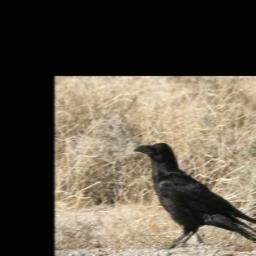Crow: (133, 141, 256, 249)
